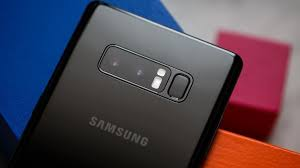samsung: (1, 1, 247, 168)
